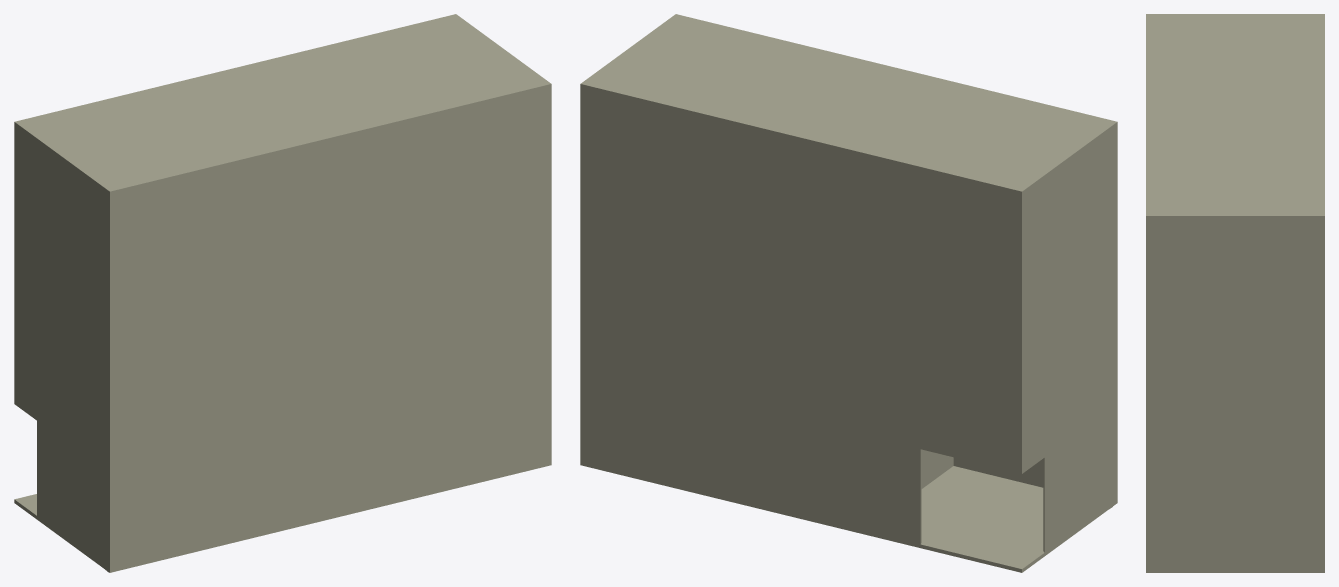
Rendered from restaurant-placeholder.fbx.
The picture shows the model from 3 angles, left to right: view 1: azimuth 30°, elevation 25°; view 2: azimuth 150°, elevation 25°; view 3: azimuth 270°, elevation 25°; orthographic projection. The views are drawn at different scales.
Parts seen in each view (by area): view 1: Cube.015; view 2: Cube.015; view 3: Cube.015.
Part boxes in pixels (x1,y1,x2,y2): Cube.015: (14,14,551,572); Cube.015: (580,14,1117,572); Cube.015: (1146,14,1324,572).
Bounding box in the file's own units: 1068 × 887 × 400.
